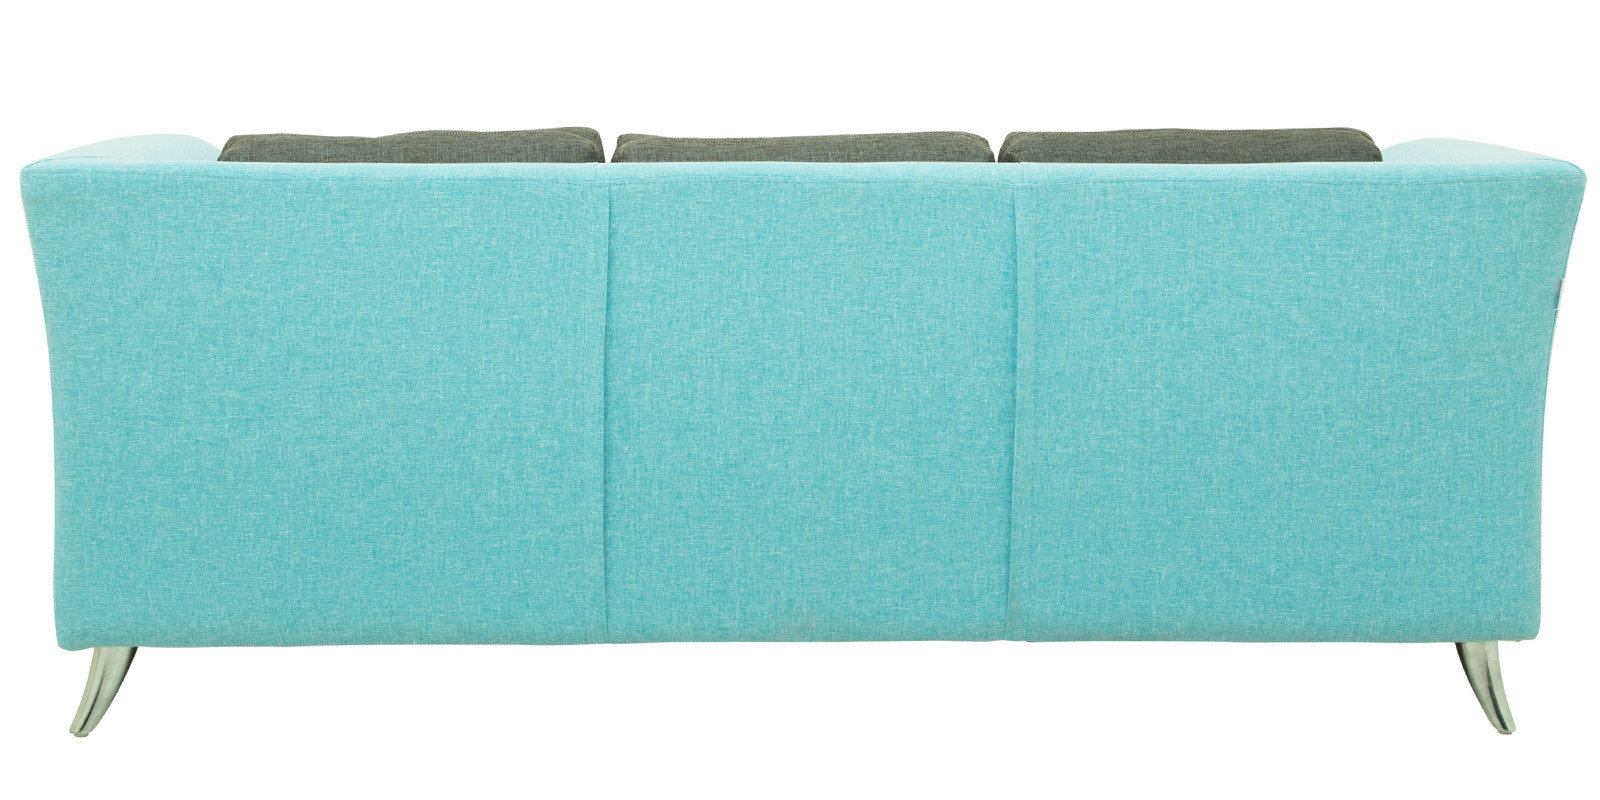Iowa Three Seater Sofa in Celeste Blue Colour by Furnitech: (16, 118, 1585, 772)
